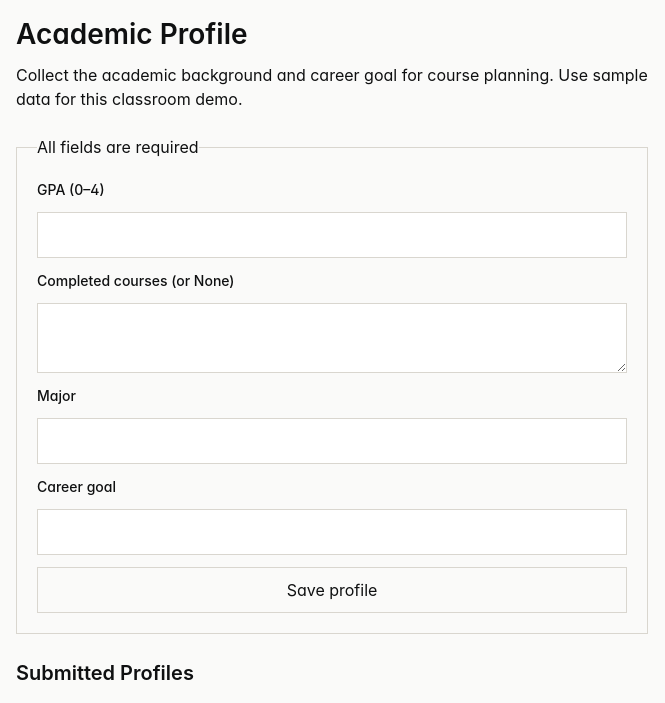
SubmissionsPage — the create form › submitting sends the typed values to the API once and confirms the save
Type "3.5" into the number field labelled "GPA (0–4)" at (332, 235), box [37,212,627,258]
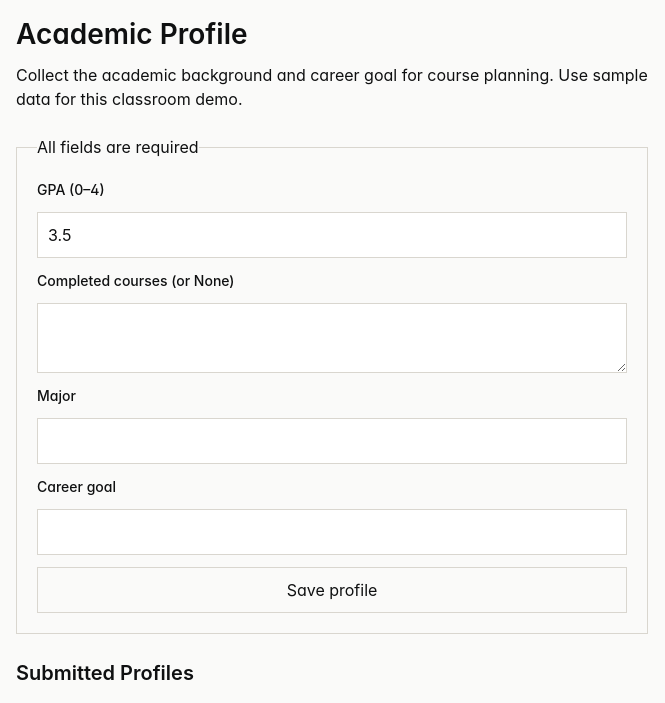
Type "CMPS 1500" into the text box labelled "Completed courses (or None)" at (332, 338), box [37,303,627,373]
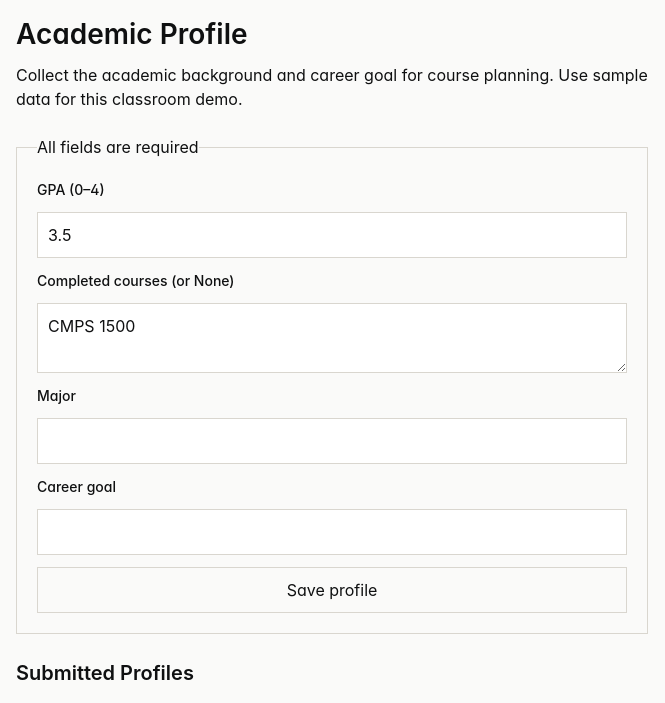
Type "Computer Science" into the field labelled "Major" at (332, 441), box [37,418,627,464]
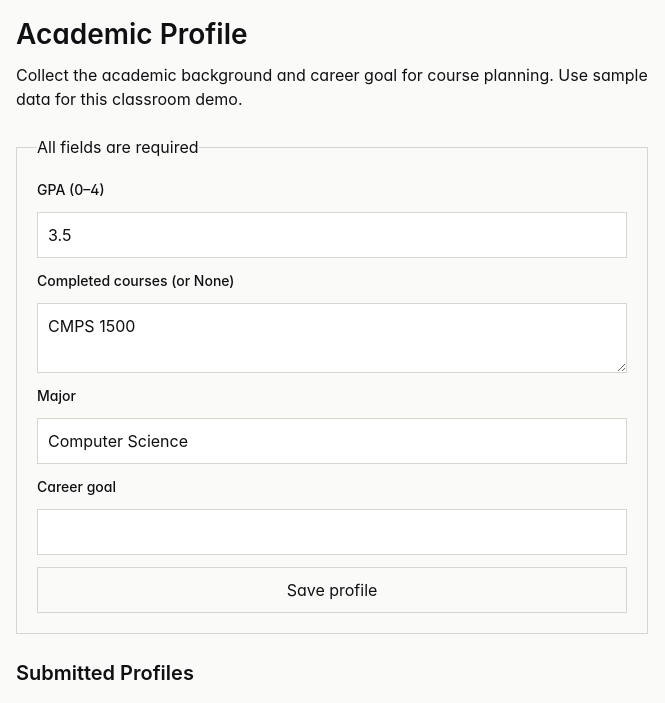
Type "Data analyst" into the field labelled "Career goal" at (332, 532), box [37,509,627,555]
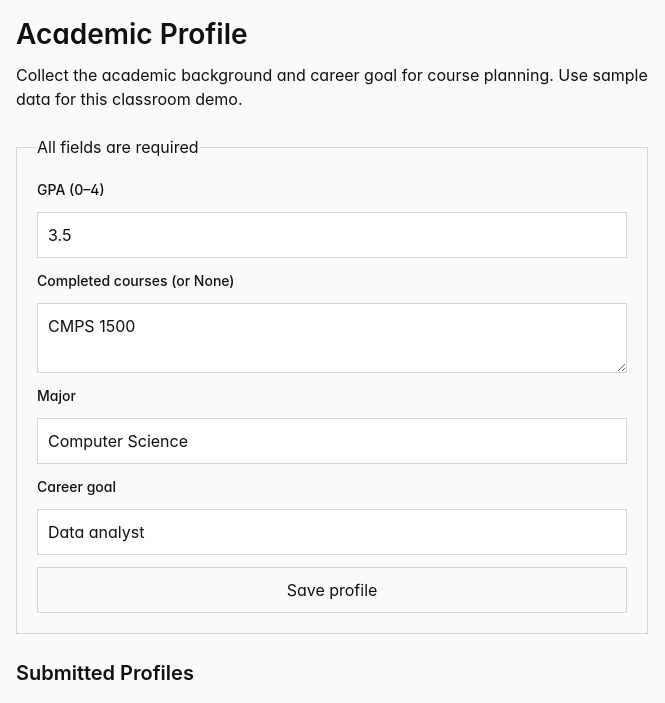
Click the button "Save profile" at (332, 590), box [37,567,627,613]
(page scrolled)
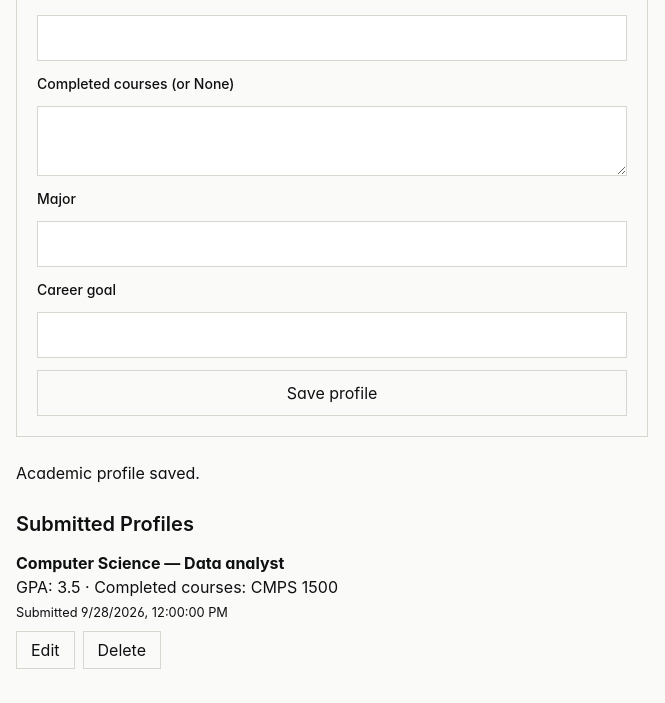
Check: the text "Academic profile saved." is shown, box [16,463,200,483]
Check: the text "Computer Science — Data analyst" is shown, box [16,553,284,573]
